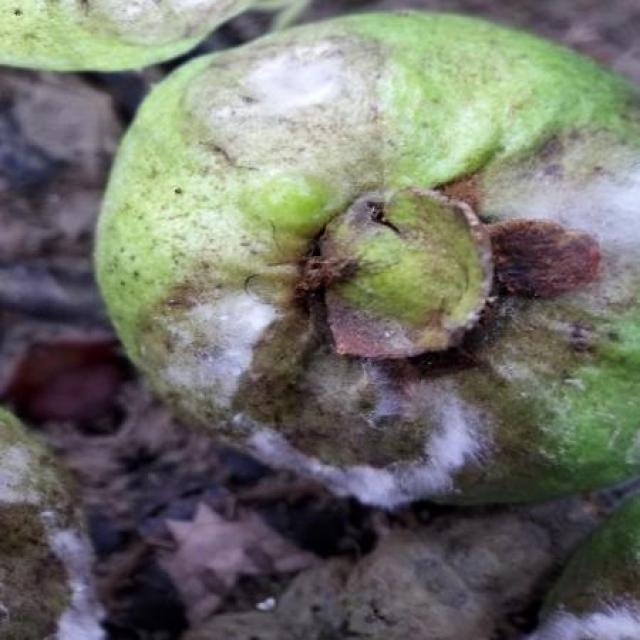Phytopthora: (95, 11, 640, 504), (0, 1, 296, 71)
